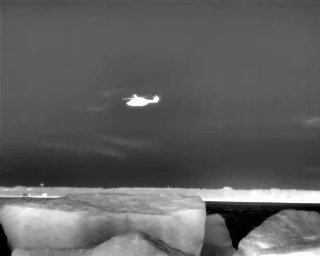HELICOPTER: (119, 88, 165, 113)
